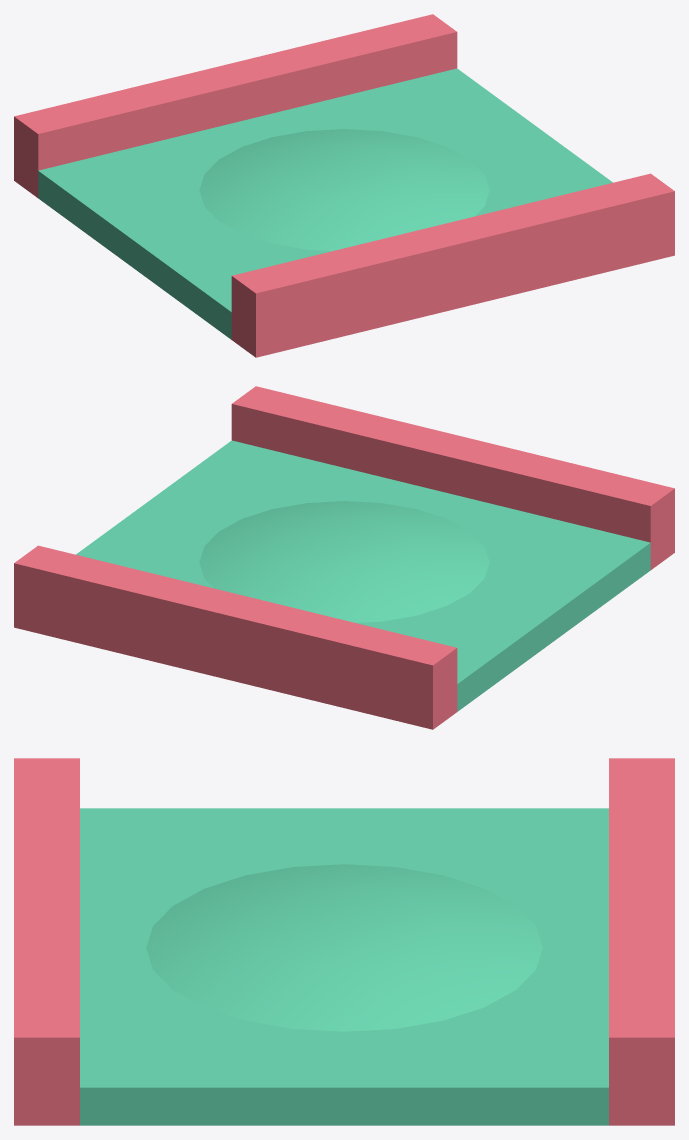
File: Bump_Walls.fbx
3 renders of one model, top to bottom at view 1: azimuth 30°, elevation 25°; view 2: azimuth 150°, elevation 25°; view 3: azimuth 270°, elevation 25°, orthographic. The views are drawn at different scales.
Visible parts, largest first — view 1: bumpWalls, Borders; view 2: bumpWalls, Borders; view 3: bumpWalls, Borders.
Boxes of the visible parts, x1,y1,x2,y2 form: bumpWalls: (38, 68, 612, 339); Borders: (14, 14, 674, 357); bumpWalls: (76, 440, 650, 711); Borders: (14, 386, 674, 729); bumpWalls: (80, 808, 608, 1125); Borders: (14, 758, 674, 1125).
Bounding box in the file's own units: 99.99 × 14.67 × 99.99.
